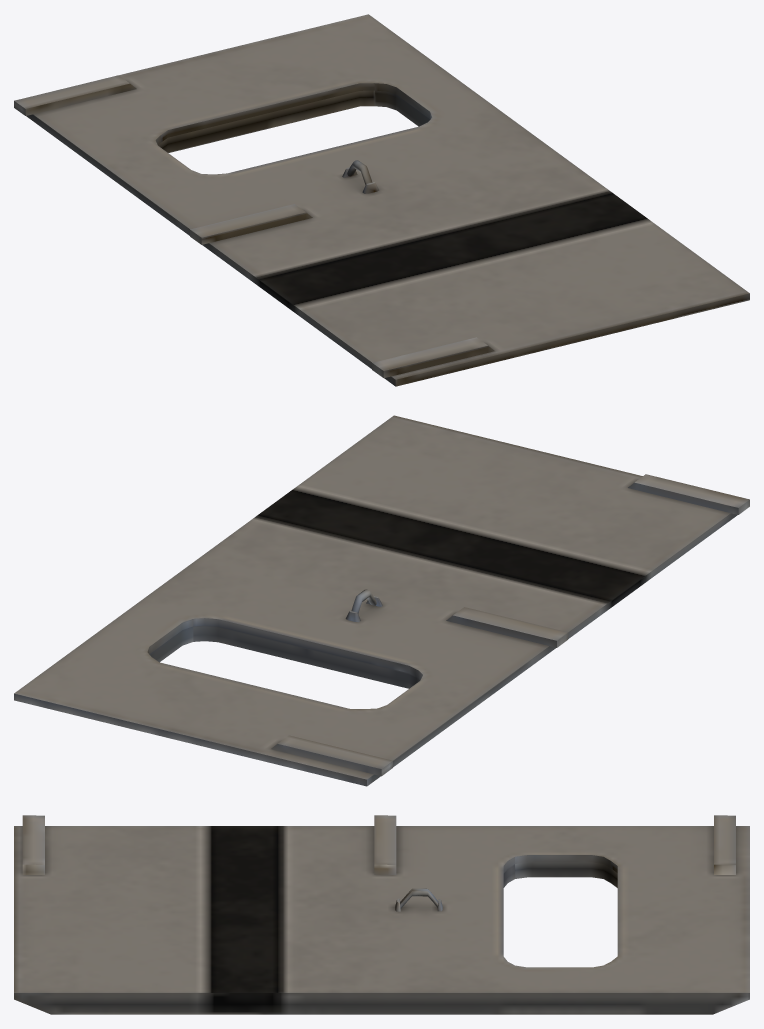
Rendered from FordF700ArmoredRearDoor_WorldItem.fbx.
The picture shows the model from 3 angles, top to bottom: view 1: azimuth 30°, elevation 25°; view 2: azimuth 150°, elevation 25°; view 3: azimuth 270°, elevation 25°; orthographic projection. The views are drawn at different scales.
Visible parts, largest first — view 1: RearDoor_obj; view 2: RearDoor_obj; view 3: RearDoor_obj.
Part boxes in pixels (x1,y1,x2,y2): RearDoor_obj: (14,14,749,386); RearDoor_obj: (14,415,749,786); RearDoor_obj: (14,815,749,1014).
Bounding box in the file's own units: 1 × 0.1151 × 1.83.
